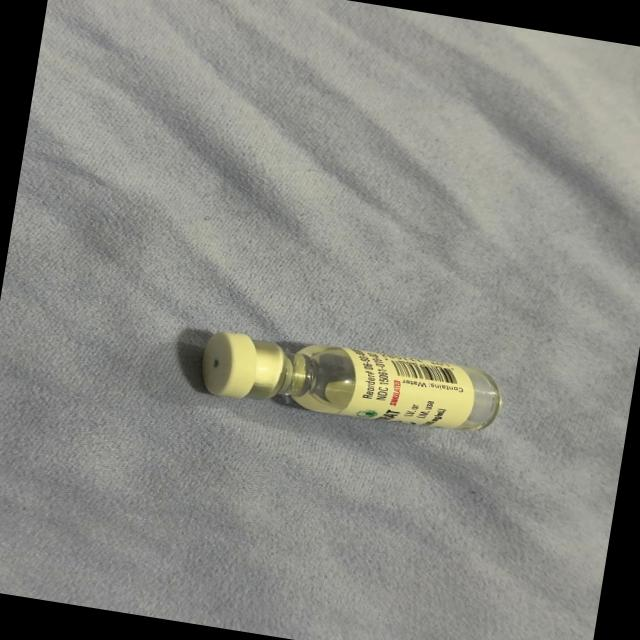fentanl_citrat: (200, 326, 500, 439)
